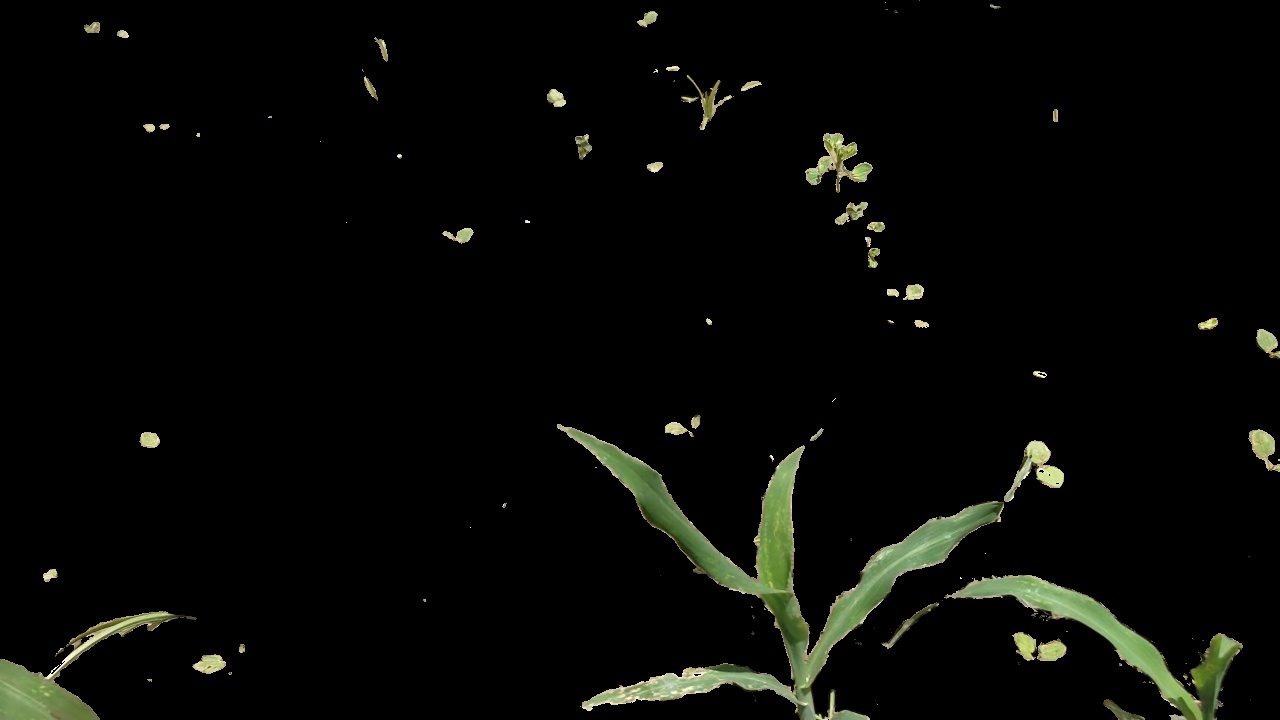crop: (542, 412, 1003, 720), (871, 572, 1243, 720)
weed: (656, 64, 772, 135), (808, 122, 872, 197), (1008, 628, 1066, 674), (1023, 435, 1071, 489), (1245, 425, 1280, 484), (879, 284, 946, 311), (431, 219, 492, 248), (658, 412, 702, 451), (1251, 319, 1280, 358), (545, 81, 579, 114)
